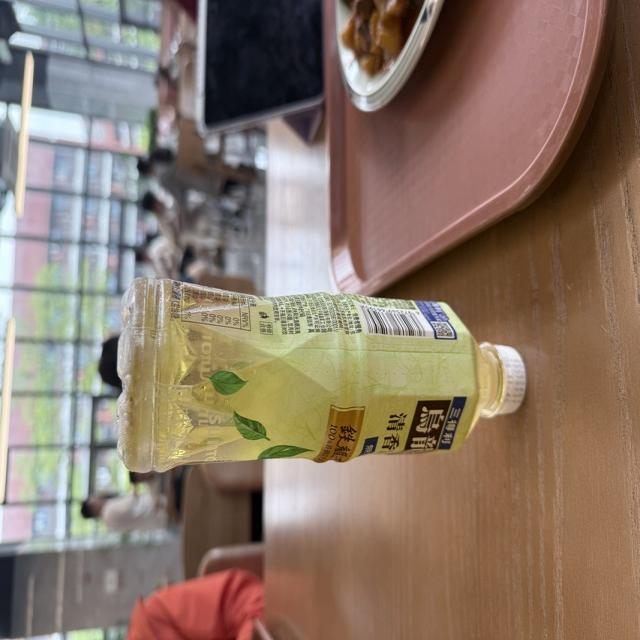high: (116, 277, 525, 472)
